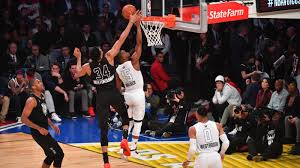ball: (121, 3, 136, 18)
hoop: (139, 17, 169, 47)
